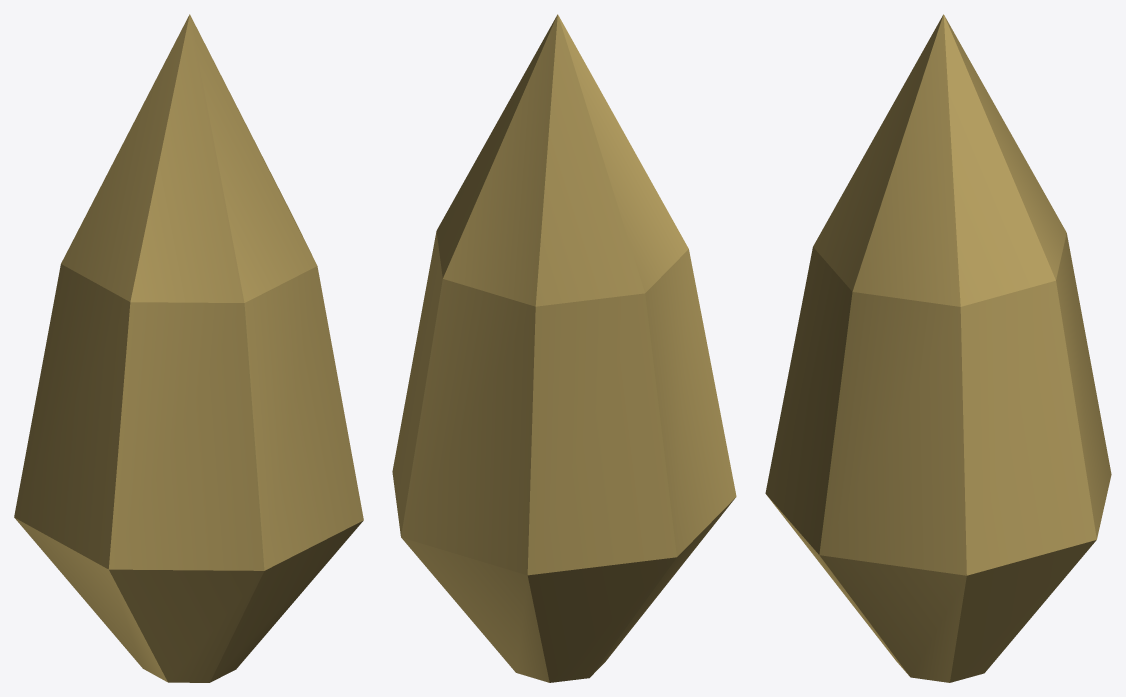
The model's file is 2040_RockProjectiles_Single_Projectile.fbx.
The picture shows the model from 3 angles, left to right: view 1: azimuth 30°, elevation 25°; view 2: azimuth 150°, elevation 25°; view 3: azimuth 270°, elevation 25°; orthographic projection.
Visible parts, largest first — view 1: PART_GeoCrystalProjectile; view 2: PART_GeoCrystalProjectile; view 3: PART_GeoCrystalProjectile.
Part boxes in pixels (x1,y1,x2,y2): PART_GeoCrystalProjectile: (14, 14, 363, 682); PART_GeoCrystalProjectile: (392, 14, 736, 682); PART_GeoCrystalProjectile: (765, 14, 1111, 682).
Size of the model in its own units: 29.12 by 60 by 29.
